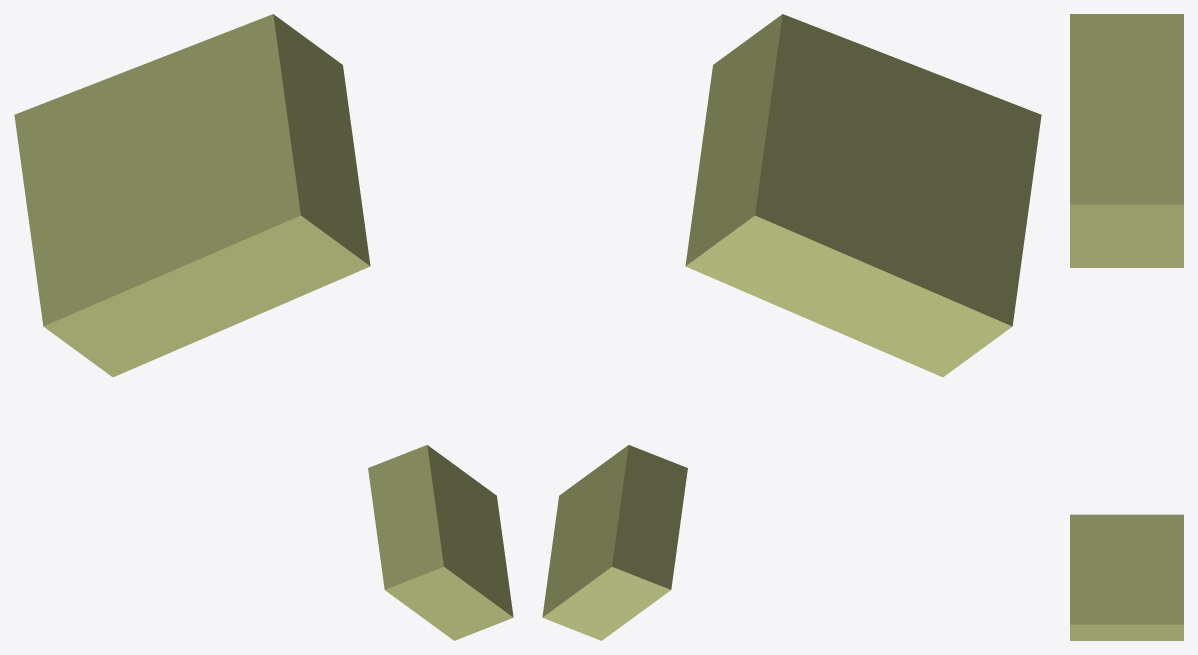
3 renders of one model, left to right at view 1: azimuth 30°, elevation 25°; view 2: azimuth 150°, elevation 25°; view 3: azimuth 270°, elevation 25°, orthographic. The views are drawn at different scales.
Visible parts, largest first — view 1: 0_1_1_3_3_1_3_2_1; view 2: 0_1_1_3_3_1_3_2_1; view 3: 0_1_1_3_3_1_3_2_1.
Part boxes in pixels (left/top/right/bottom): 0_1_1_3_3_1_3_2_1: left=14, top=14, right=513, bottom=640; 0_1_1_3_3_1_3_2_1: left=542, top=14, right=1041, bottom=640; 0_1_1_3_3_1_3_2_1: left=1070, top=14, right=1183, bottom=640.
Size of the model in its own units: 21.37 by 28.68 by 6.
